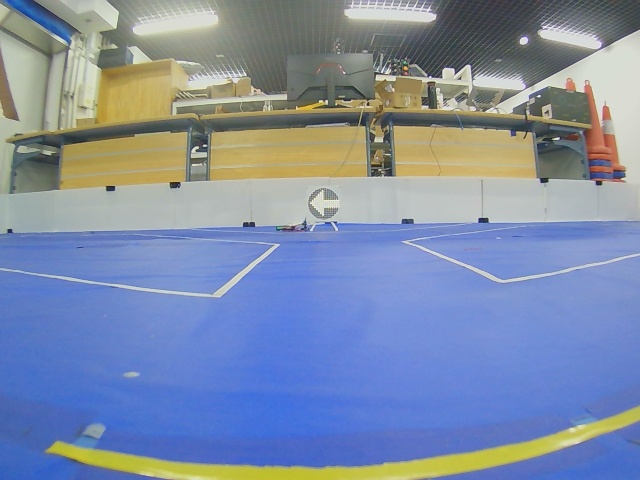left_yellow: (308, 188, 340, 220)
